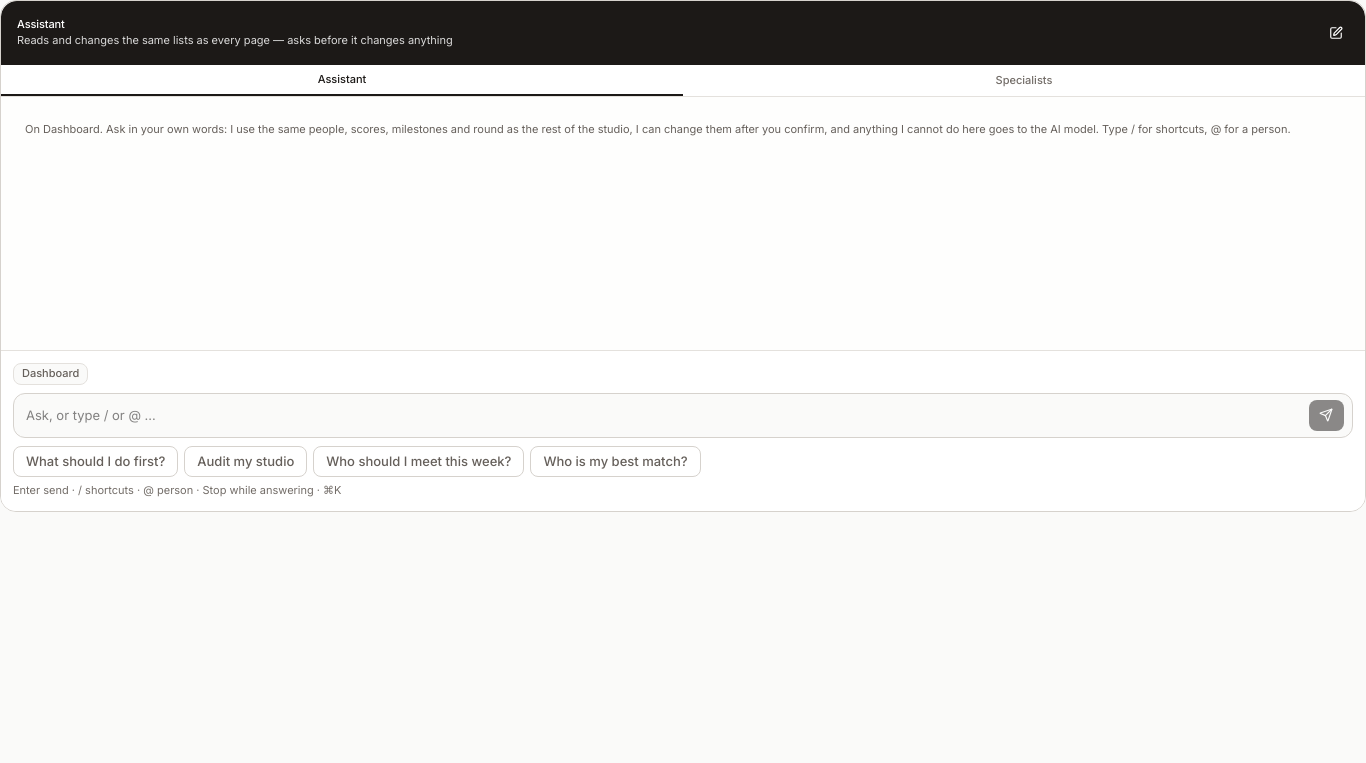
studio chat proposals › offers Confirm all for several changes in one message, applies them in order, and undoes all
In the field named "Message the assistant": (659, 415) [18,398,1300,433], type "add milestone Private beta live and add task Call the bank"
Then press Enter
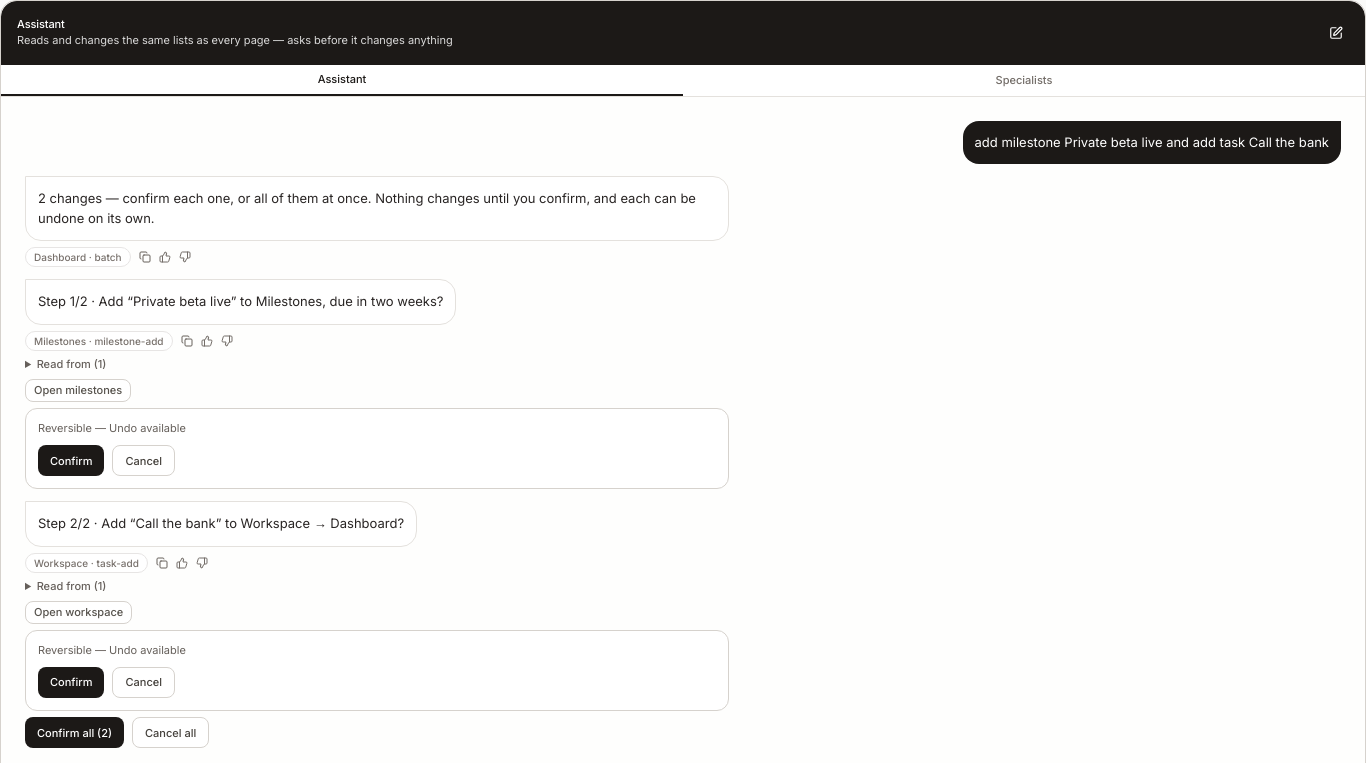
Expected: the number of buttons "Confirm" is 2, [38,445,104,476]; [38,667,104,698]
Click the button "Confirm all (2)": (74, 733) [25,717,124,748]
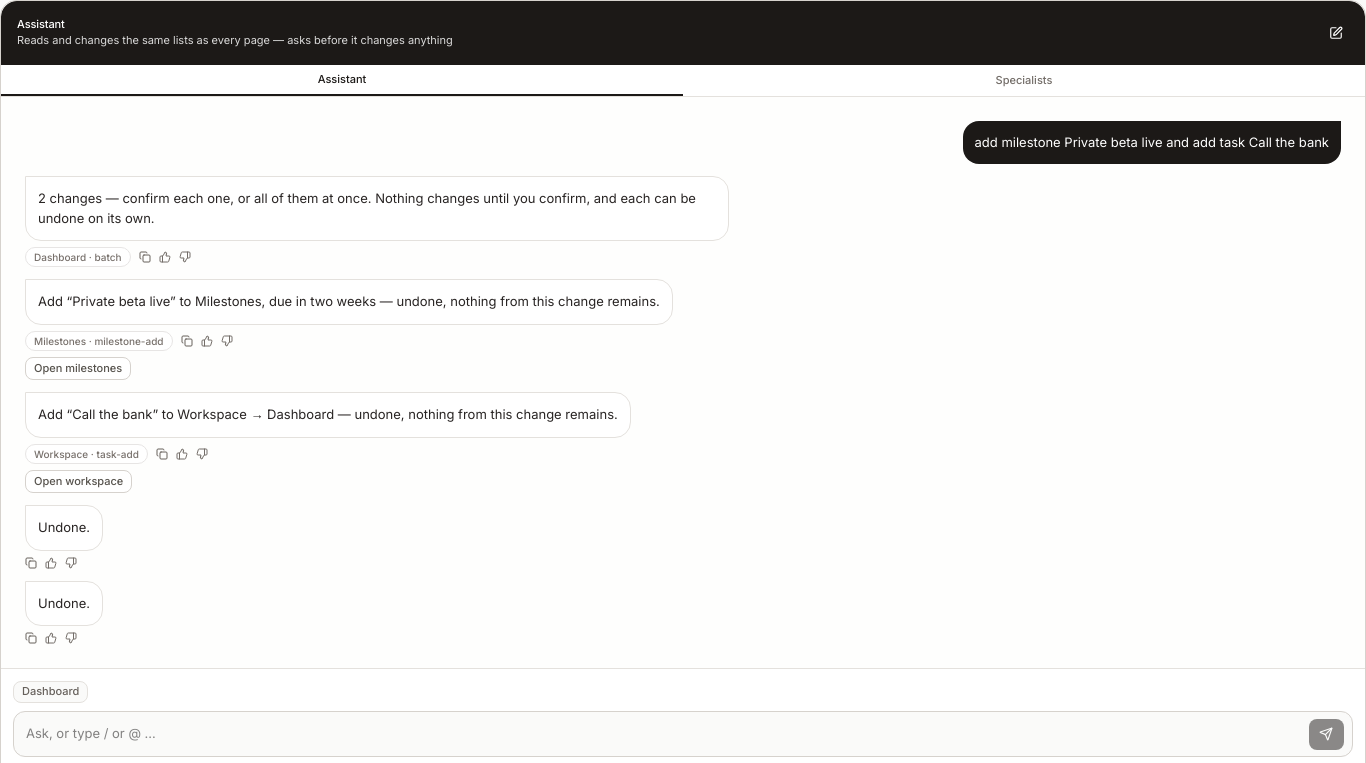
Expected: the button "Confirm all" is gone
